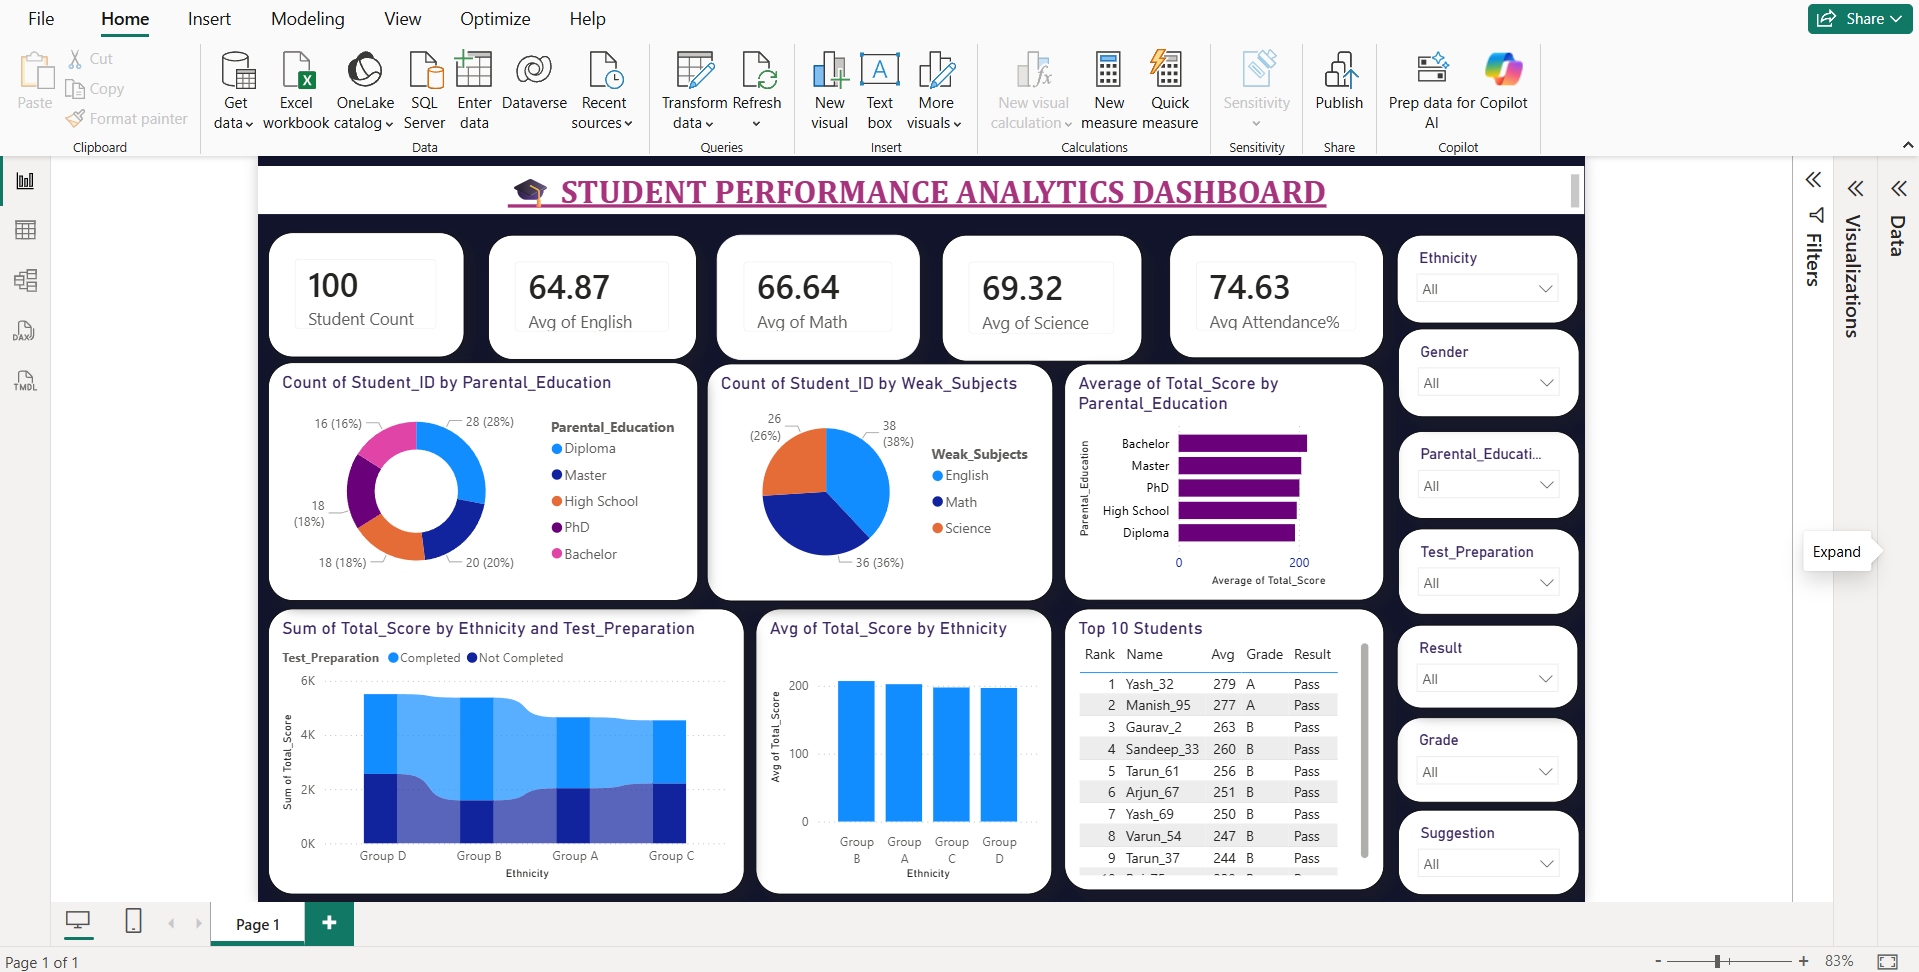

This screenshot's page, from the dashboard's own definition file:
{"tool":"powerbi","page":{"name":"Page 1","canvas":[1280,720],"ordinal":0},"visuals":[{"type":"textbox","box":[236,9.6,811,46.7],"z":0},{"type":"cardVisual","fields":{"Data":["CountNonNull(Student_Data.Student_ID)"]},"box":[9.6,74.1,178.4,120.8],"z":1000},{"type":"cardVisual","fields":{"Data":["Avg(Student_Data.English)"]},"box":[222.3,75.5,178.4,120.8],"z":2000},{"type":"cardVisual","fields":{"Data":["Avg(Student_Data.Math)"]},"box":[443.2,75.5,170.2,120.8],"z":3000},{"type":"cardVisual","fields":{"Data":["Avg(Student_Data.Science)"]},"box":[650.4,74.1,185.2,122.1],"z":4000},{"type":"cardVisual","fields":{"Data":["Avg(Student_Data.Attendance)"]},"box":[871.4,75.5,207.2,123.5],"z":5000},{"type":"slicer","fields":{"Values":["Student_Data.Ethnicity"]},"box":[1099.1,78.2,174.3,93.3],"z":6000},{"type":"slicer","fields":{"Values":["Student_Data.Parental_Education"]},"box":[1099.1,292.3,174.3,93.3],"z":7000},{"type":"slicer","fields":{"Values":["Student_Data.Test_Preparation"]},"box":[1099.1,399.3,174.3,93.3],"z":8000},{"type":"slicer","fields":{"Values":["Student_Data.Gender"]},"box":[1099.1,182.5,174.3,93.3],"z":9000},{"type":"clusteredColumnChart","fields":{"Y":["Avg(Student_Data.Total_Score)"],"Category":["Student_Data.Ethnicity"]},"box":[480.3,436.4,286.8,275.8],"z":10001},{"type":"pieChart","fields":{"Y":["CountNonNull(Student_Data.Student_ID)"],"Category":["Student_Data.Parental_Education"]},"box":[9.6,207.2,410.3,215.4],"z":10005},{"type":"pieChart","fields":{"Y":["CountNonNull(Student_Data.Student_ID)"],"Category":["Student_Data.Weak_Subjects"]},"box":[433.6,208.6,333.4,214.1],"z":10006},{"type":"slicer","fields":{"Values":["Student_Data.Grade"]},"box":[1099.1,616.1,174.3,91.9],"z":10007},{"type":"slicer","fields":{"Values":["Student_Data.Result"]},"box":[1099.1,507.7,174.3,91.9],"z":10008},{"type":"clusteredBarChart","fields":{"Y":["Avg(Student_Data.Total_Score)"],"Category":["Student_Data.Parental_Education"]},"box":[778,207.2,300.5,215.4],"z":10009},{"type":"ribbonChart","fields":{"Category":["Student_Data.Ethnicity"],"Y":["Sum(Student_Data.Total_Score)"],"Series":["Student_Data.Test_Preparation"]},"box":[9.6,436.4,459.7,275.8],"z":10011},{"type":"tableEx","title":"Top 10 Students","fields":{"Values":["Student_Data.Rank","Student_Data.Name","Student_Data.Total_Score","Student_Data.Grade","Student_Data.Result"]},"box":[778,436.4,300.5,271.7],"z":10012}]}

Visuals, with their boxes on the page's 1280x720 design canvas (x1, y1, x2, y2). These are canvas units, not pixel positions in the 1919x972 screenshot, which may show the page scaled, cropped or inside an application window:
textbox: 236, 10, 1047, 56
cardVisual - CountNonNull(Student_Data.Student_ID): 10, 74, 188, 195
cardVisual - Avg(Student_Data.English): 222, 76, 401, 196
cardVisual - Avg(Student_Data.Math): 443, 76, 613, 196
cardVisual - Avg(Student_Data.Science): 650, 74, 836, 196
cardVisual - Avg(Student_Data.Attendance): 871, 76, 1079, 199
slicer - Student_Data.Ethnicity: 1099, 78, 1273, 172
slicer - Student_Data.Parental_Education: 1099, 292, 1273, 386
slicer - Student_Data.Test_Preparation: 1099, 399, 1273, 493
slicer - Student_Data.Gender: 1099, 182, 1273, 276
clusteredColumnChart - Avg(Student_Data.Total_Score) x Student_Data.Ethnicity: 480, 436, 767, 712
pieChart - CountNonNull(Student_Data.Student_ID) x Student_Data.Parental_Education: 10, 207, 420, 423
pieChart - CountNonNull(Student_Data.Student_ID) x Student_Data.Weak_Subjects: 434, 209, 767, 423
slicer - Student_Data.Grade: 1099, 616, 1273, 708
slicer - Student_Data.Result: 1099, 508, 1273, 600
clusteredBarChart - Avg(Student_Data.Total_Score) x Student_Data.Parental_Education: 778, 207, 1078, 423
ribbonChart - Student_Data.Ethnicity x Sum(Student_Data.Total_Score): 10, 436, 469, 712
"Top 10 Students" tableEx: 778, 436, 1078, 708
